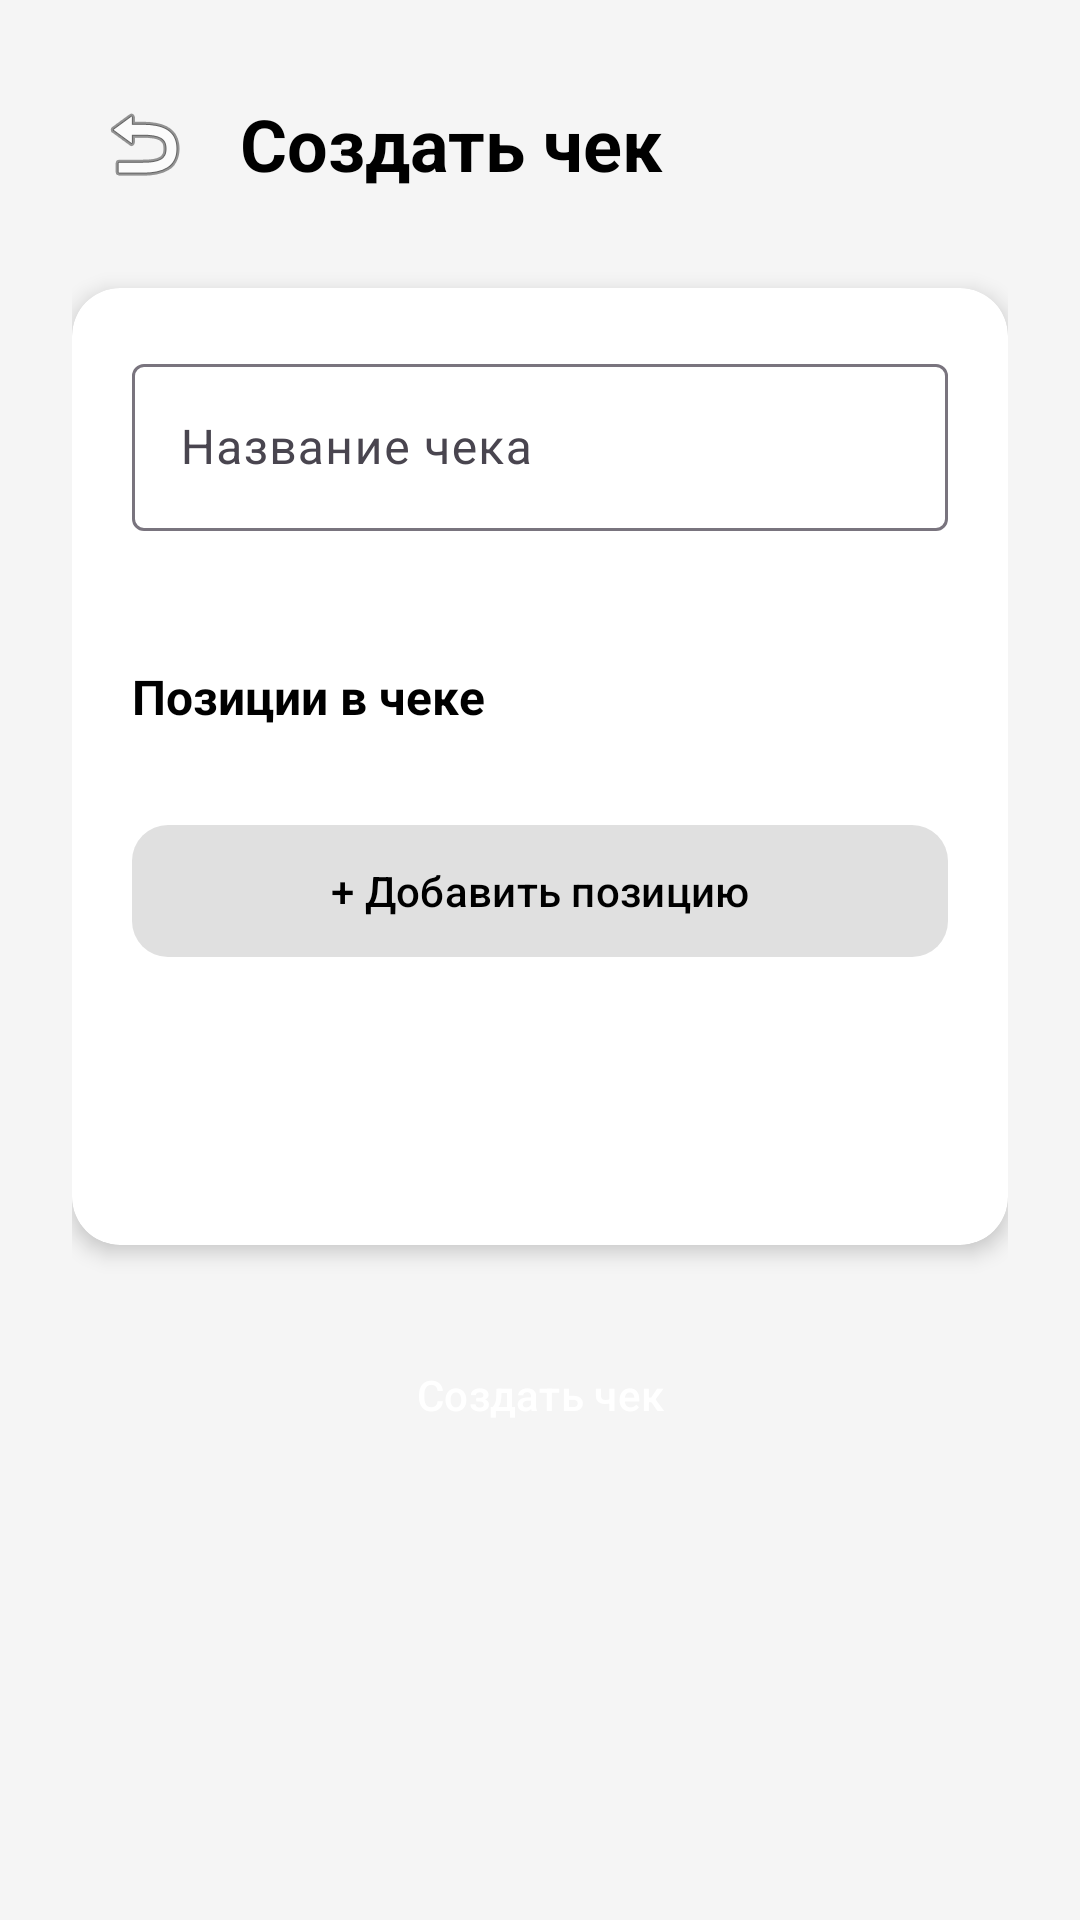

Icon click points for this 1080px x 1920px phone screenshot, format [x,y]:
Назад: [145,144]
